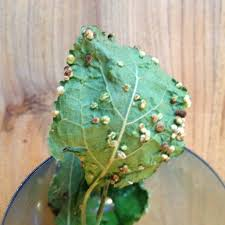Diseased_Leaves: (88, 99, 133, 159), (157, 134, 184, 157), (67, 55, 75, 78), (140, 126, 150, 141), (175, 109, 187, 117), (119, 166, 130, 173)
